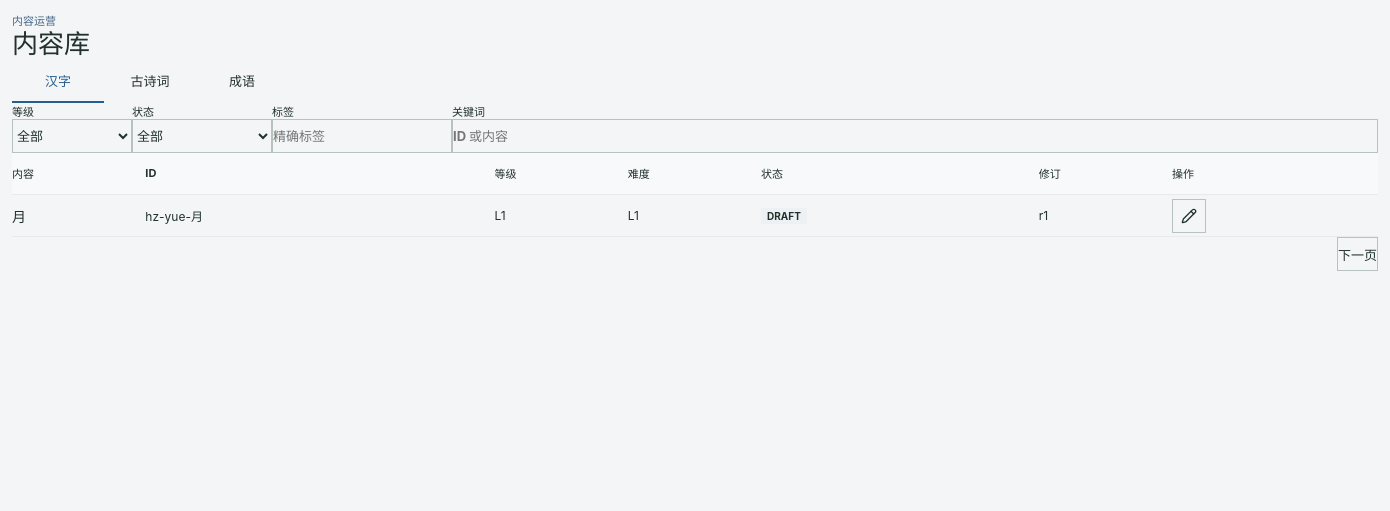
Scenario: ContentLibraryPage › lets REVIEWER inspect details, validate and activate without editing
Expected: the text "hz-yue-月" is shown, [145,194,494,236]
Click the button named "查看 月". click: (1189, 216)
box: [1172,198,1206,232]
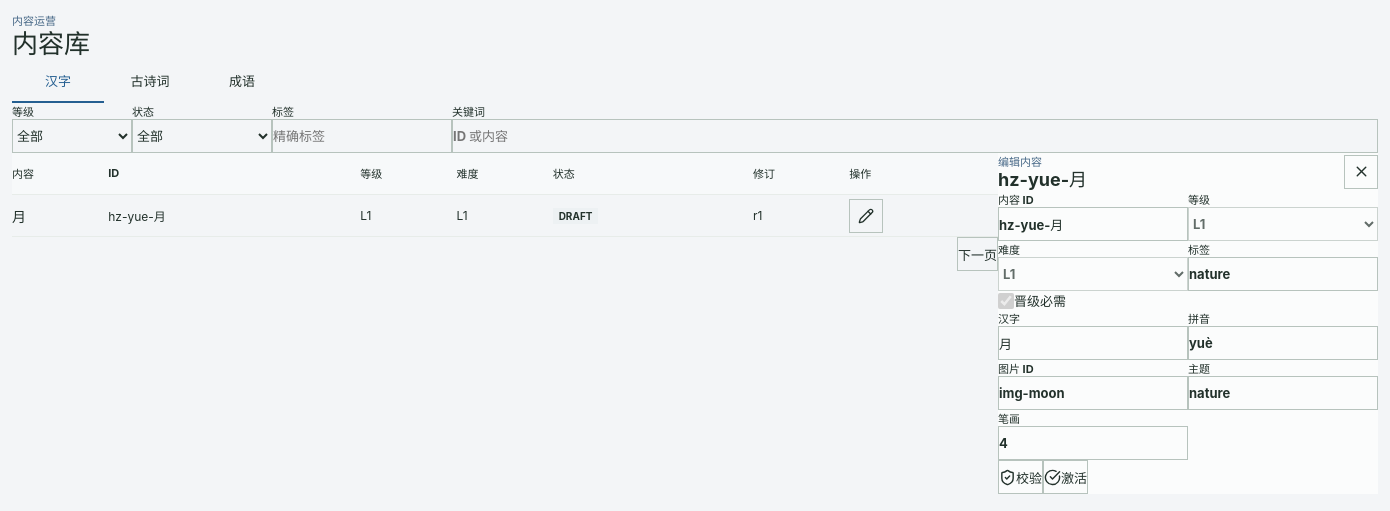
Expected: the heading "hz-yue-月" is shown, [998,168,1087,191]
Expected: the button with aria-label "校验内容" is shown, [998,460,1043,494]
Expected: the button with aria-label "激活内容" is shown, [1043,460,1088,494]
